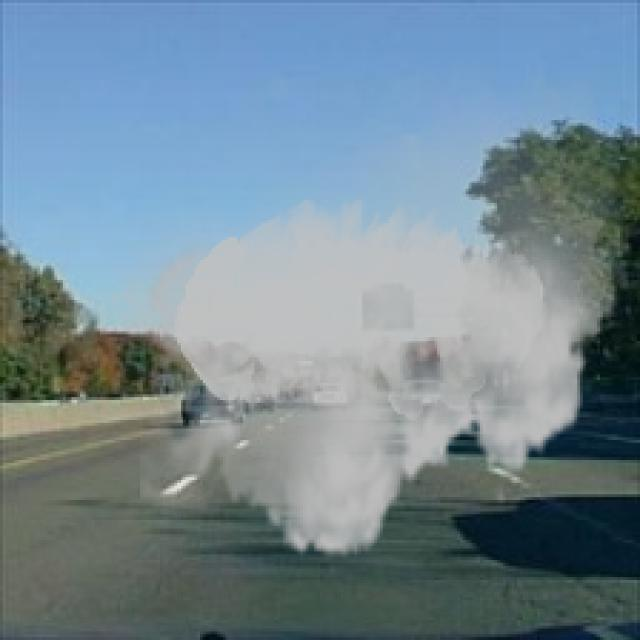smoke: (106, 49, 628, 577)
